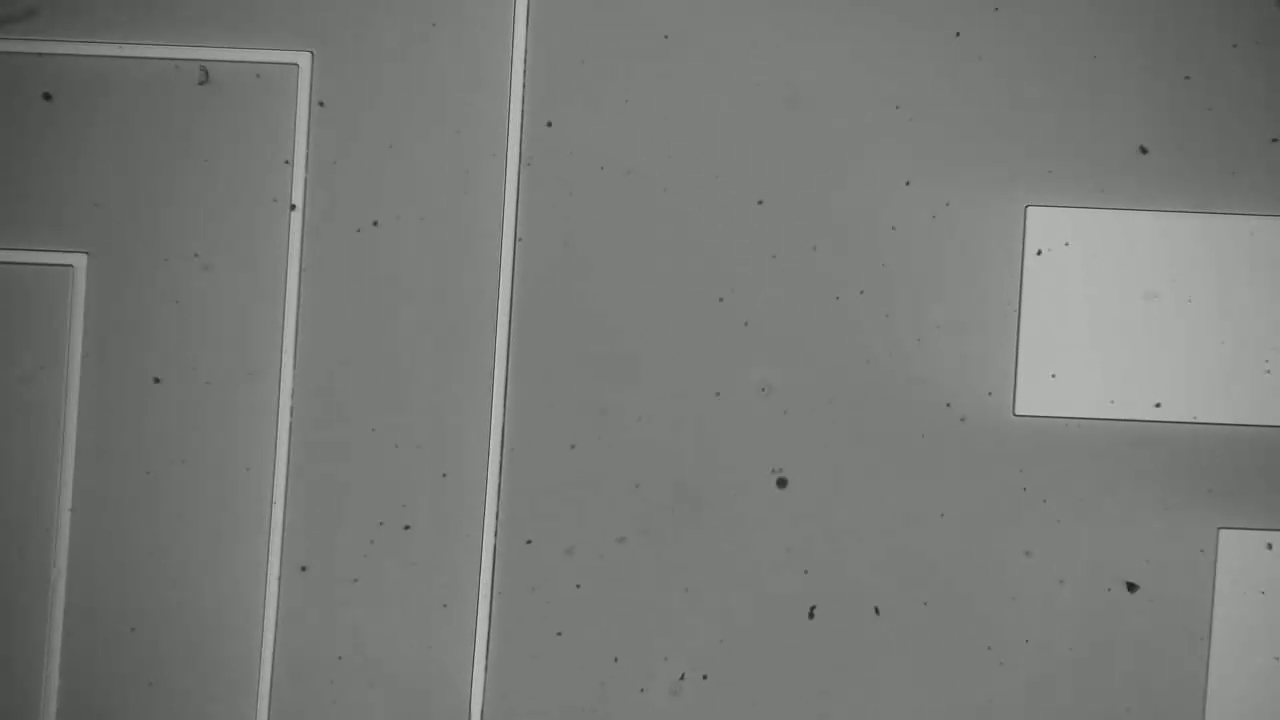stains_enbedded: (284, 193, 310, 217)
